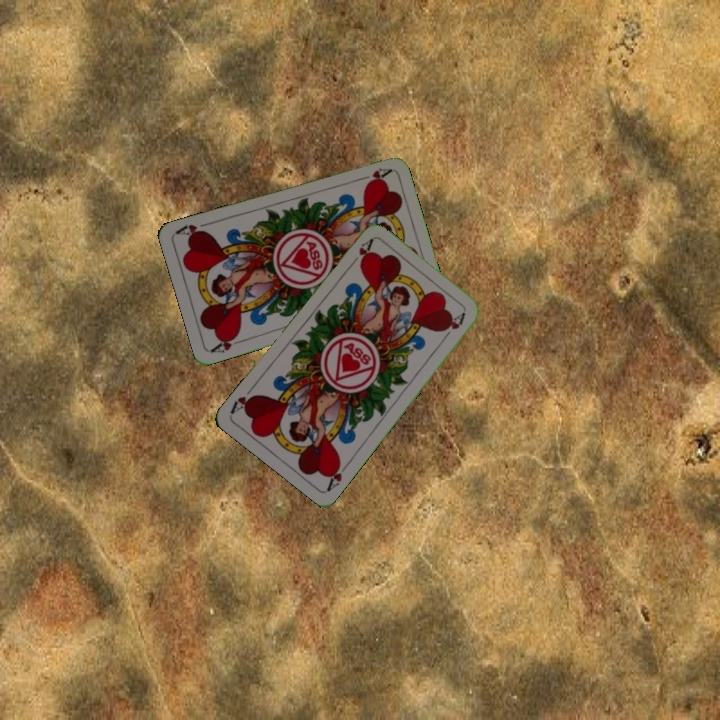HA: (345, 235, 376, 270), (323, 457, 353, 493), (207, 331, 247, 355), (353, 164, 393, 186)
